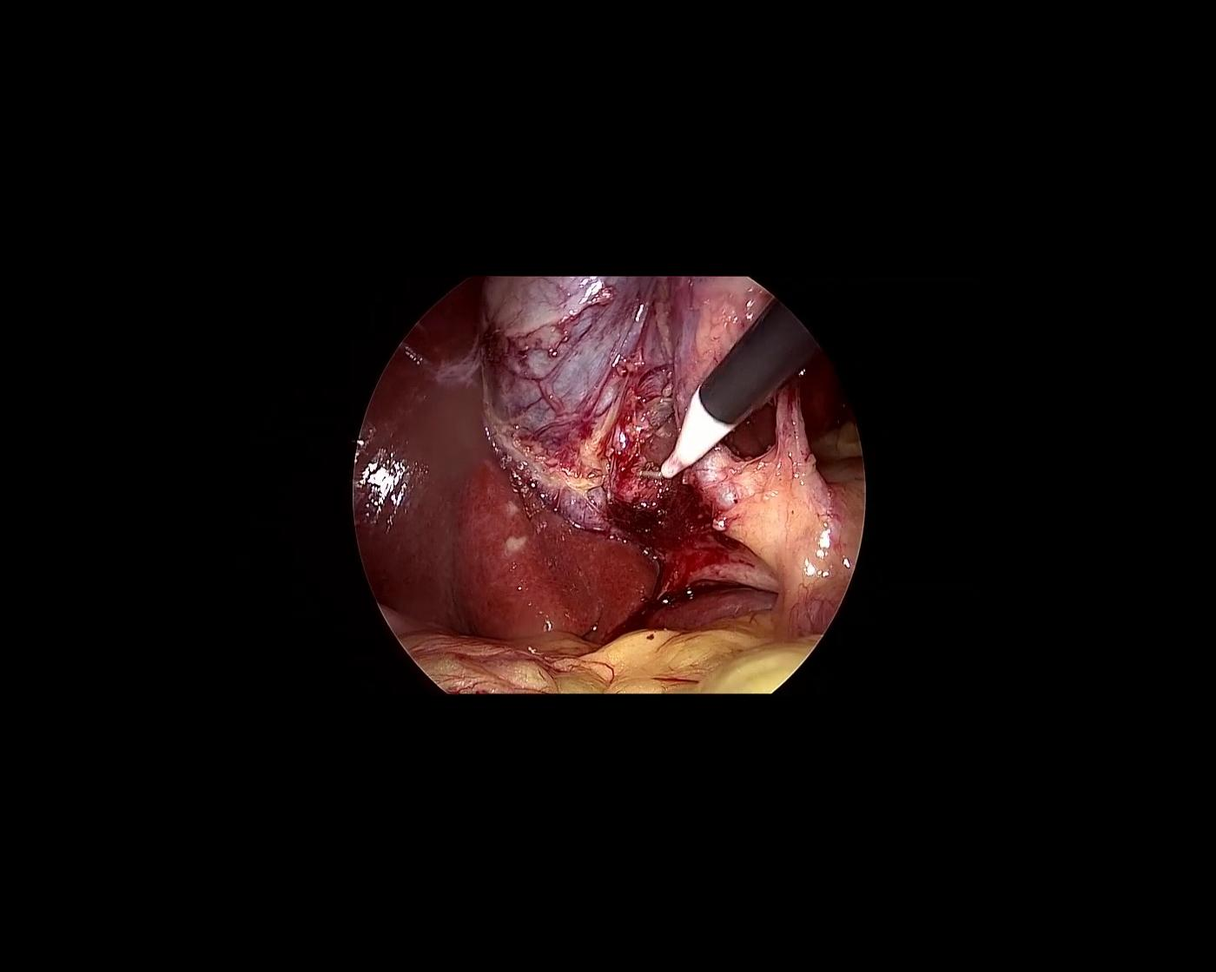Cautery: (615, 300, 821, 499)
Gallbladder: (480, 277, 770, 496)
Liver: (257, 270, 680, 731)
